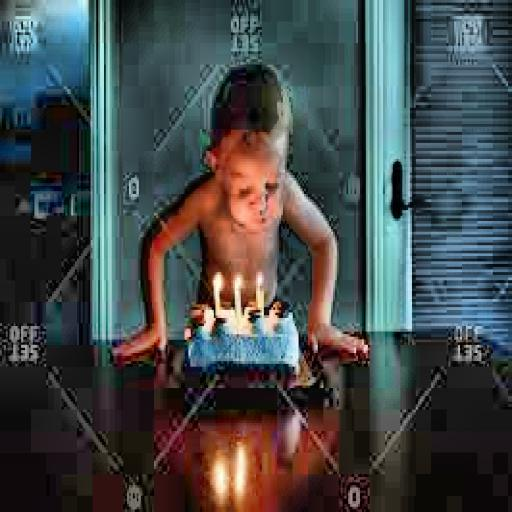fire: (229, 267, 245, 296), (246, 264, 264, 286), (210, 270, 223, 288)
